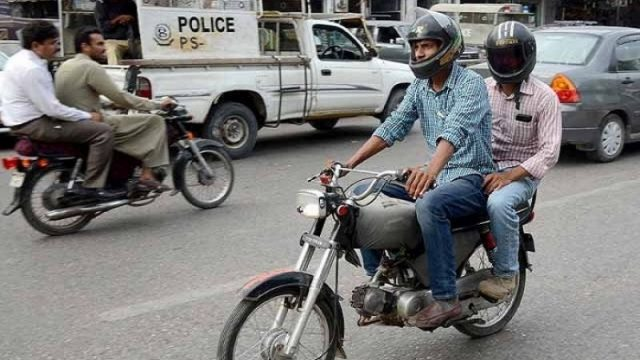helmet: (475, 16, 561, 92), (403, 6, 473, 88)
